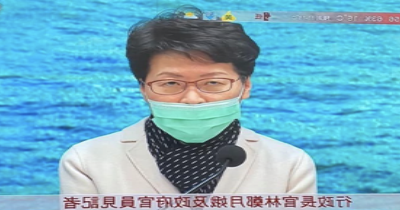mask_weared_incorrect: (143, 69, 242, 144)
